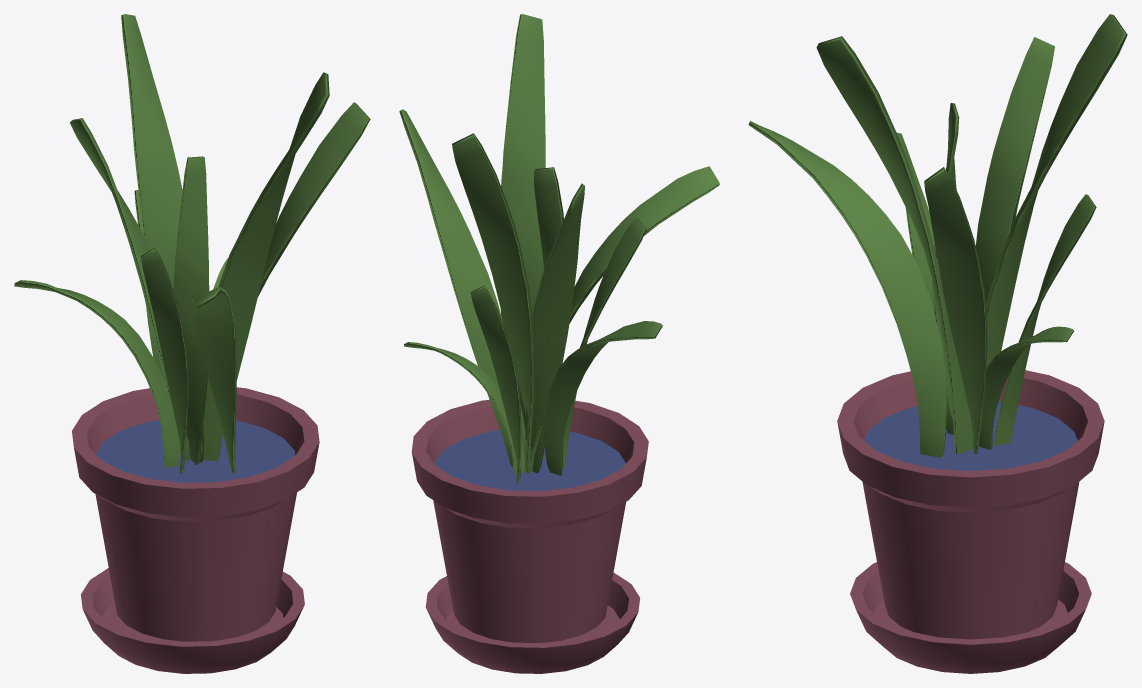
The model's file is svarmorstunga.fbx.
3 renders of one model, left to right at view 1: azimuth 30°, elevation 25°; view 2: azimuth 150°, elevation 25°; view 3: azimuth 270°, elevation 25°, orthographic. The views are drawn at different scales.
Visible parts, largest first — view 1: svarmorstnga; view 2: svarmorstnga; view 3: svarmorstnga.
Boxes of the visible parts, bbox=[...] form: svarmorstnga: bbox=[14, 14, 370, 673]; svarmorstnga: bbox=[399, 14, 719, 673]; svarmorstnga: bbox=[748, 14, 1127, 673].
Size of the model in its own units: 0.659 by 1.2 by 0.6486.
